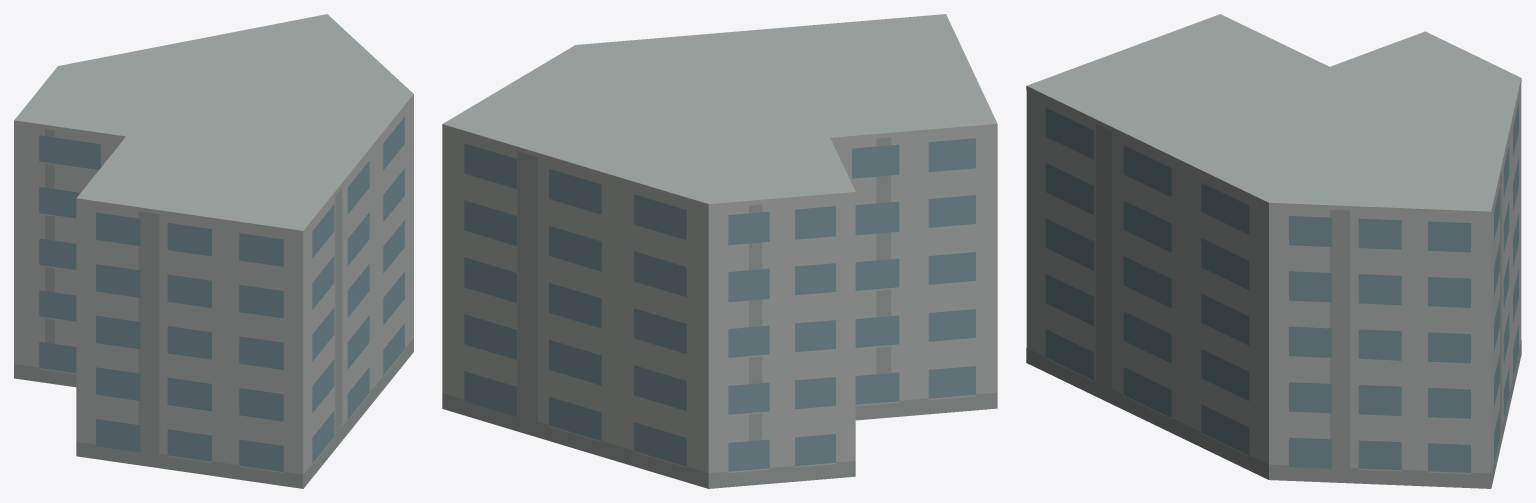
Rendered from residential-f0b0f67f-92d7-48ed-837e-749c75281e4c.glb.
3 renders of one model, left to right at view 1: azimuth 30°, elevation 25°; view 2: azimuth 150°, elevation 25°; view 3: azimuth 270°, elevation 25°, orthographic. The views are drawn at different scales.
Visible parts, largest first — view 1: residential-f0b0f67f-92d7-48ed-837e-749c75281e4c.tmp; view 2: residential-f0b0f67f-92d7-48ed-837e-749c75281e4c.tmp; view 3: residential-f0b0f67f-92d7-48ed-837e-749c75281e4c.tmp.
Boxes of the visible parts, x1,y1,x2,y2 form: residential-f0b0f67f-92d7-48ed-837e-749c75281e4c.tmp: (14, 14, 413, 488); residential-f0b0f67f-92d7-48ed-837e-749c75281e4c.tmp: (442, 14, 997, 488); residential-f0b0f67f-92d7-48ed-837e-749c75281e4c.tmp: (1026, 14, 1521, 488).
Bounding box in the file's own units: 23.33 × 15.25 × 24.68.
